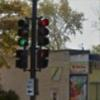cars: (18, 20, 28, 47)
